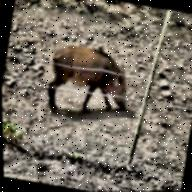boar: (35, 32, 152, 130)
